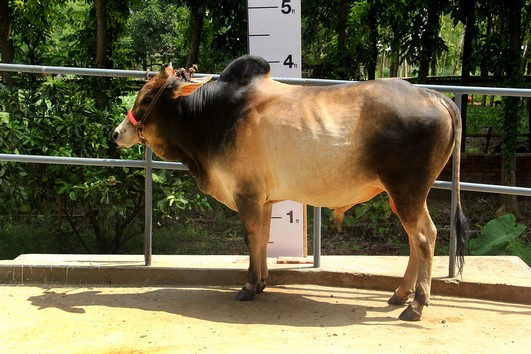cow: (108, 52, 473, 333)
